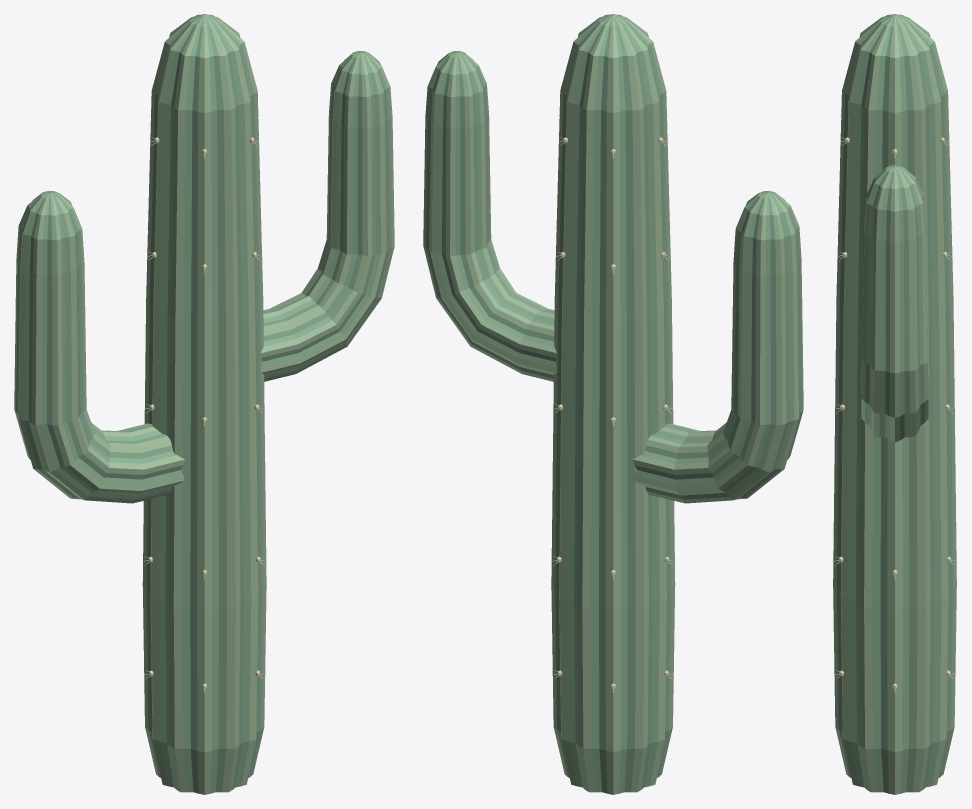
The model's file is cactus_large_saguaro.glb.
3 views of the same model, side by side, from view 1: azimuth 30°, elevation 25°; view 2: azimuth 150°, elevation 25°; view 3: azimuth 270°, elevation 25° (orthographic).
Parts seen in each view (by area): view 1: Saguaro_Ribbed_Main_Trunk, Saguaro_Left_Upturned_Arm, Saguaro_Right_Upturned_Arm; view 2: Saguaro_Ribbed_Main_Trunk, Saguaro_Left_Upturned_Arm, Saguaro_Right_Upturned_Arm; view 3: Saguaro_Ribbed_Main_Trunk, Saguaro_Right_Upturned_Arm.
Boxes of the visible parts, left/top/right/bottom form: Saguaro_Ribbed_Main_Trunk: left=142, top=14, right=266, bottom=794; Saguaro_Left_Upturned_Arm: left=14, top=190, right=184, bottom=503; Saguaro_Right_Upturned_Arm: left=260, top=51, right=394, bottom=381; Saguaro_Ribbed_Main_Trunk: left=551, top=14, right=675, bottom=794; Saguaro_Left_Upturned_Arm: left=633, top=190, right=803, bottom=503; Saguaro_Right_Upturned_Arm: left=423, top=51, right=557, bottom=381; Saguaro_Ribbed_Main_Trunk: left=833, top=14, right=956, bottom=794; Saguaro_Right_Upturned_Arm: left=861, top=165, right=928, bottom=442.
Bounding box in the file's own units: 2.05 × 4 × 0.5968.
